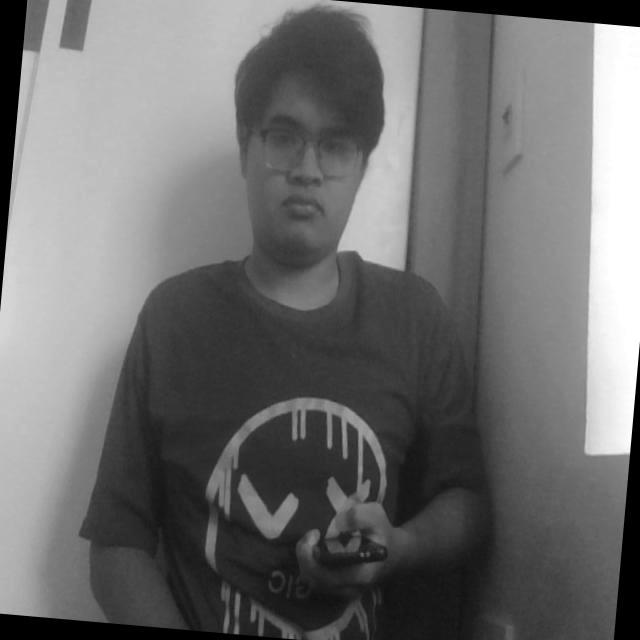phone: (295, 496, 391, 596)
